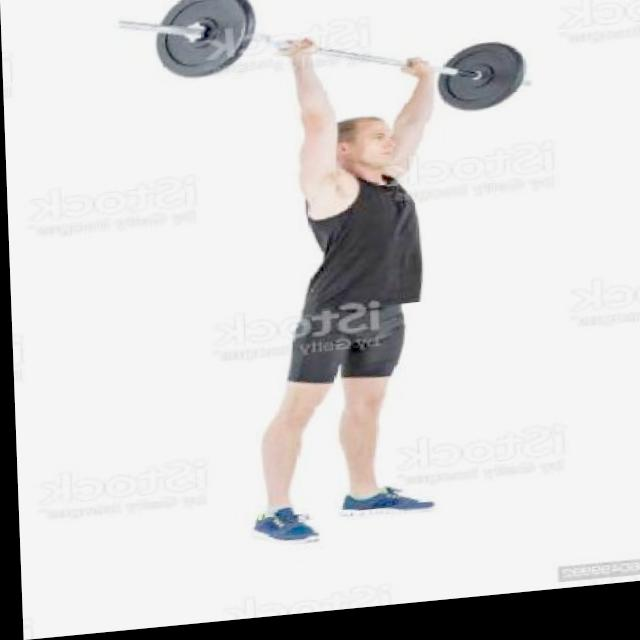barbell: (94, 1, 273, 98)
